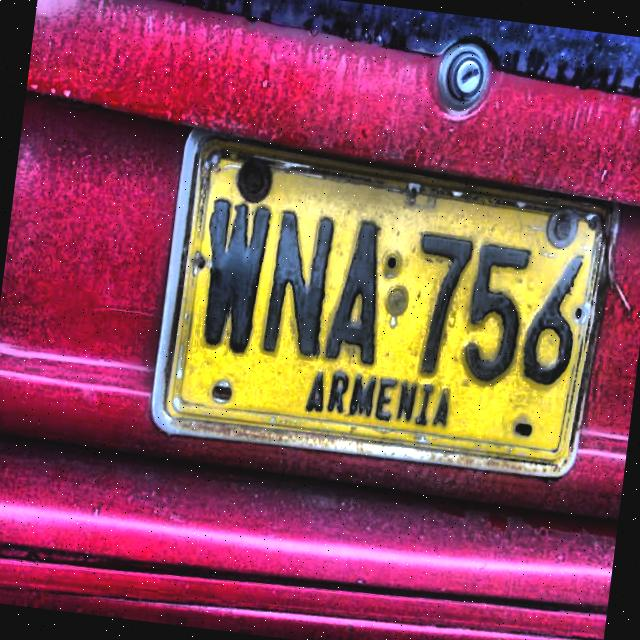5: (455, 238, 541, 389)
6: (512, 247, 591, 394)
7: (400, 225, 479, 381)
A: (320, 215, 393, 371)
N: (256, 199, 349, 368)
W: (191, 194, 279, 358)
